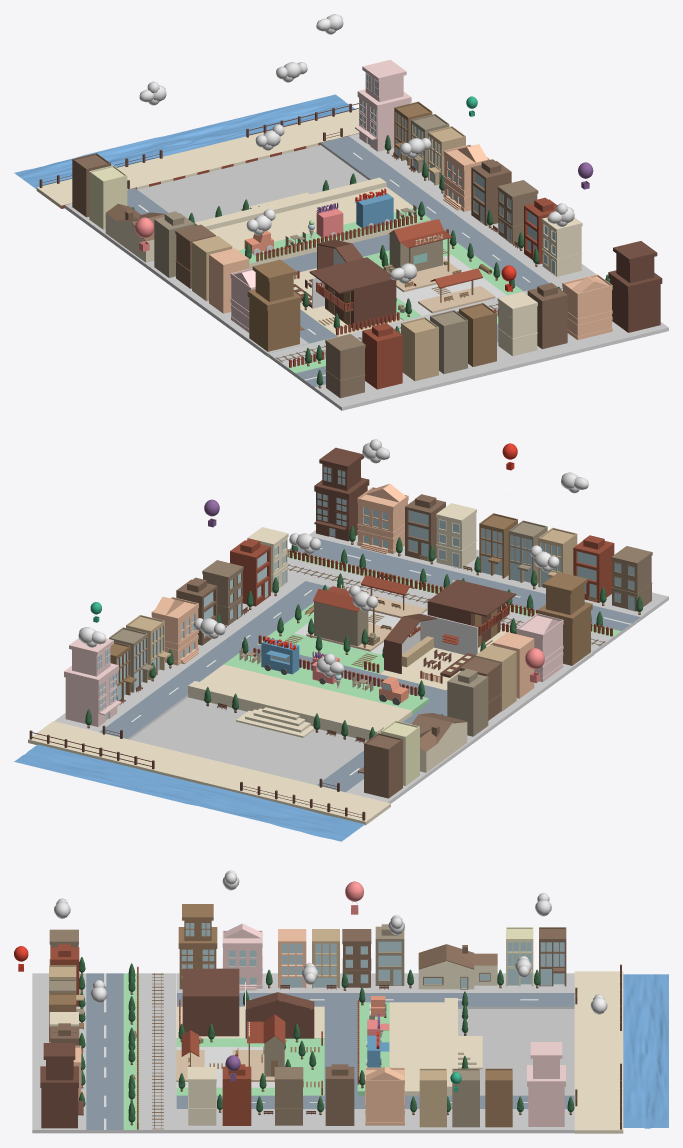
The model's file is Photharam.fbx.
3 renders of one model, top to bottom at view 1: azimuth 30°, elevation 25°; view 2: azimuth 150°, elevation 25°; view 3: azimuth 270°, elevation 25°, orthographic. The views are drawn at different scales.
Parts seen in each view (by area): view 1: Plane.002, Plane.001, Cube.003, Cube, Plane, Cube.096, Cube.007, Cube.088, Cube.097, Cube.059, Cube.089, Cube.084 (+25 smaller); view 2: Plane.002, Plane.001, Cube.003, Cube, Plane, Cube.007, Cube.096, Cube.006, Cube.089, Cube.097, Cube.090, Cube.084 (+23 smaller); view 3: Plane.001, Plane.002, Cube, Plane, Cube.003, Cube.007, Cube.084, Cube.059, Cube.097, Cube.083, Cube.087, Cube.090 (+25 smaller).
Boxes of the visible parts, box(x1,y1,x2,y2) form: Plane.002: box(65, 133, 595, 356); Plane.001: box(268, 238, 668, 410); Cube.003: box(137, 145, 368, 222); Cube: box(36, 109, 359, 208); Plane: box(14, 94, 355, 188); Cube.096: box(401, 303, 496, 381); Cube.007: box(209, 187, 430, 267); Cube.088: box(247, 259, 304, 351); Cube.097: box(608, 241, 662, 332); Cube.059: box(309, 257, 396, 329); Cube.089: box(355, 59, 411, 151); Cube.084: box(394, 101, 465, 185); Plane.002: box(54, 577, 593, 803); Plane.001: box(257, 530, 668, 673); Cube.003: box(130, 697, 366, 785); Cube: box(28, 721, 390, 825); Plane: box(14, 744, 364, 841); Cube.007: box(200, 653, 428, 728); Cube.096: box(479, 513, 577, 587); Cube.006: box(188, 681, 383, 740); Cube.089: box(64, 638, 121, 726); Cube.097: box(314, 447, 369, 541); Cube.090: box(358, 720, 419, 798); Cube.084: box(109, 615, 170, 700); Plane.001: box(32, 973, 324, 1133); Plane.002: box(176, 973, 574, 1133); Cube: box(574, 971, 623, 1133); Plane: box(623, 974, 668, 1128); Cube.003: box(458, 1009, 574, 1095); Cube.007: box(357, 1002, 444, 1095); Cube.084: box(419, 1068, 512, 1127); Cube.059: box(182, 968, 239, 1036); Cube.097: box(40, 1043, 83, 1128); Cube.083: box(278, 929, 339, 988); Cube.087: box(418, 944, 497, 989); Cube.090: box(506, 927, 566, 986).
Bounding box in the file's own units: 7175 × 2116 × 10536.
